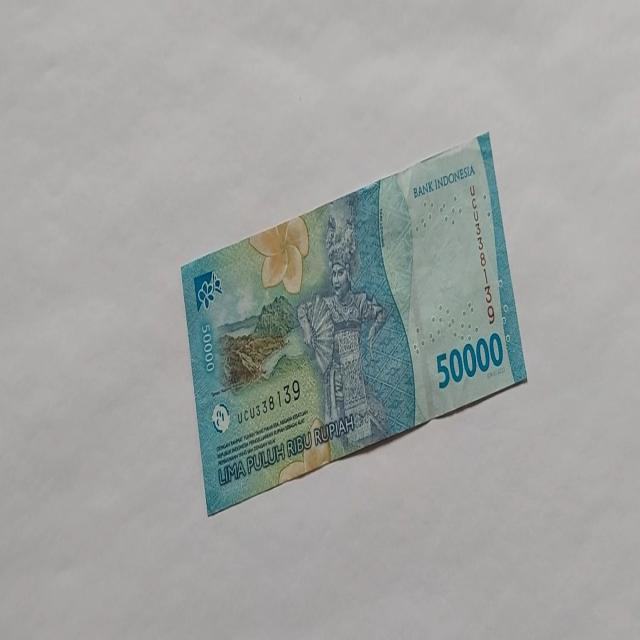lima puluh ribu rupiah: (180, 130, 528, 516), (434, 330, 504, 390)
